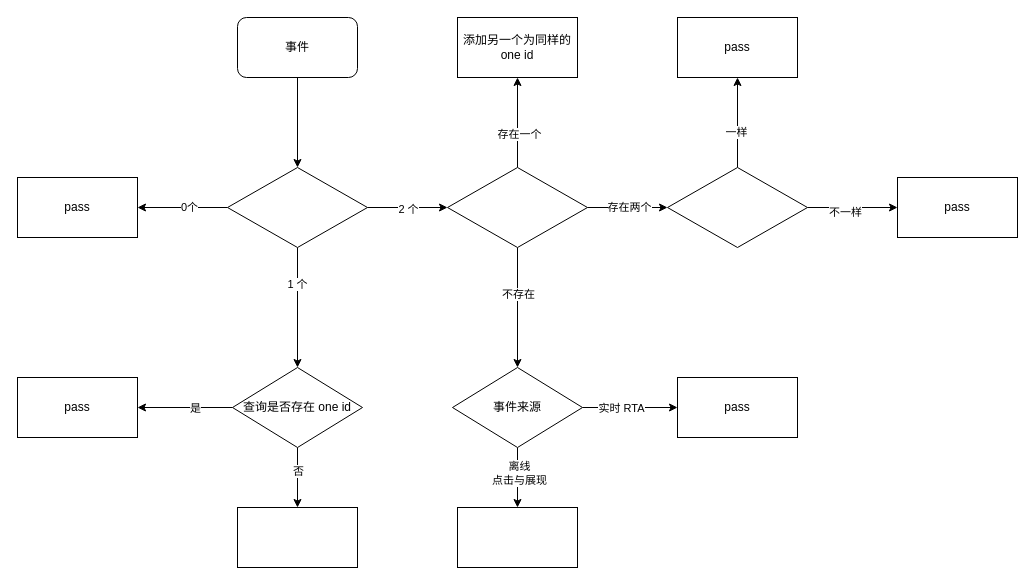
Image size: 1035x585. Some labels were removed from this diagram. Here are the shapes that lost their labels. From the top down, the centre of each, then its label:
At [297,207]: "设备ID数量".
At [517,207]: "查询 one ID 是否存在".
At [737,207]: "两个的 one ID 是否一样".
At [297,537]: "生成 one ID 入库".
At [517,537]: "新建 one ID 两个都对应上".
